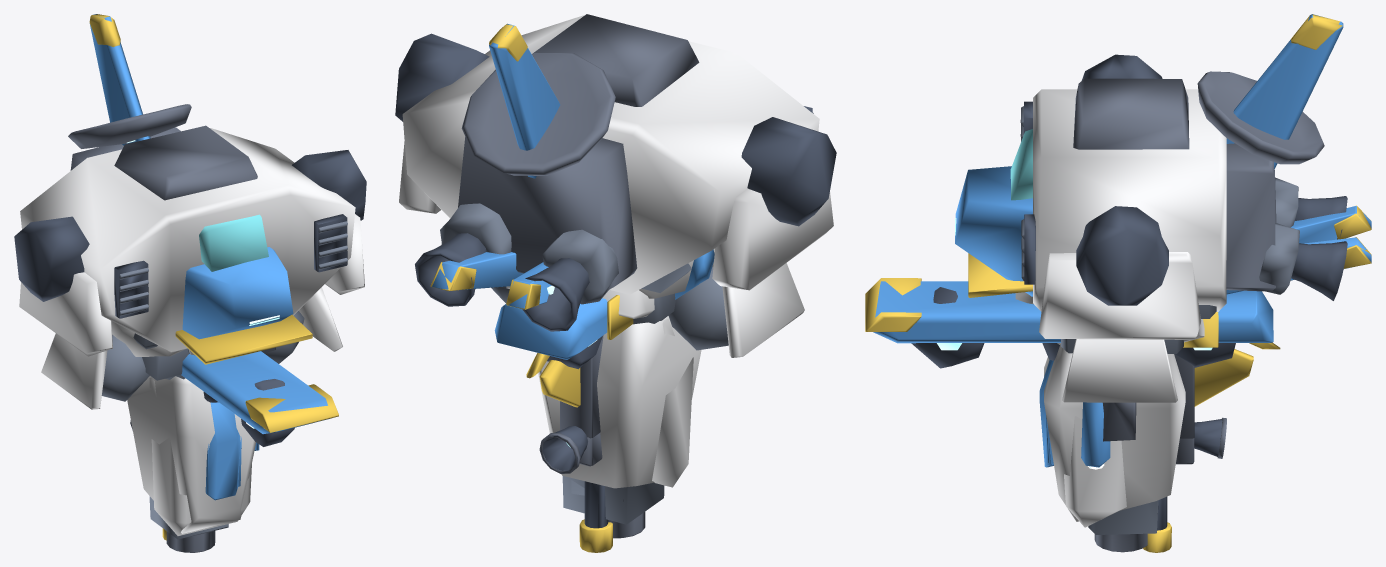
File: daystar-lod1.glb
The picture shows the model from 3 angles, left to right: view 1: azimuth 30°, elevation 25°; view 2: azimuth 150°, elevation 25°; view 3: azimuth 270°, elevation 25°; orthographic projection. The views are drawn at different scales.
Visible parts, largest first — view 1: chest/P, chest/F, chest/D, kneeL/P, chest/S, ankleL/S, hips/P, chest/T, hips/K, chest/C, hipL/P, kneeL/S (+6 smaller); view 2: chest/P, chest/F, chest/D, kneeL/P, chest/K, hips/P, chest/S, ankleL/S, hips/K, hipL/P, hipL/K, wingL/S (+14 smaller); view 3: chest/P, chest/F, chest/D, chest/S, ankleL/S, kneeL/P, hips/P, hipL/P, chest/K, chest/T, ankleL/D, ankleL/T (+13 smaller).
Boxes of the visible parts, x1,y1,x2,y2 form: chest/P: (19,128,364,356); chest/F: (68,104,257,200); chest/D: (14,150,366,318); kneeL/P: (127,349,255,533); chest/S: (89,14,293,339); ankleL/S: (181,351,329,434); hips/P: (41,287,342,409); chest/T: (89,14,312,364); hips/K: (102,311,304,401); chest/C: (199,214,268,271); hipL/P: (149,377,251,535); kneeL/S: (205,402,241,500); chest/P: (399,15,833,294); chest/F: (458,14,699,290); chest/D: (395,33,836,331); kneeL/P: (538,316,701,488); chest/K: (440,113,813,304); hips/P: (441,244,804,357); chest/S: (489,24,560,178); ankleL/S: (494,298,607,359); hips/K: (491,267,728,350); hipL/P: (652,318,693,487); hipL/K: (562,476,664,524); wingL/S: (432,252,523,289); chest/P: (1033,89,1226,339); chest/F: (1073,71,1324,291); chest/D: (1023,54,1347,305); chest/S: (955,14,1343,296); ankleL/S: (873,281,1273,343); kneeL/P: (1044,343,1185,521); hips/P: (1062,319,1204,402); hipL/P: (1064,416,1126,527); chest/K: (1020,106,1299,318); chest/T: (968,14,1342,297); ankleL/D: (911,287,1235,368); ankleL/T: (865,278,1280,349).
Bounding box in the file's own units: 3.44 × 4.82 × 4.16.
